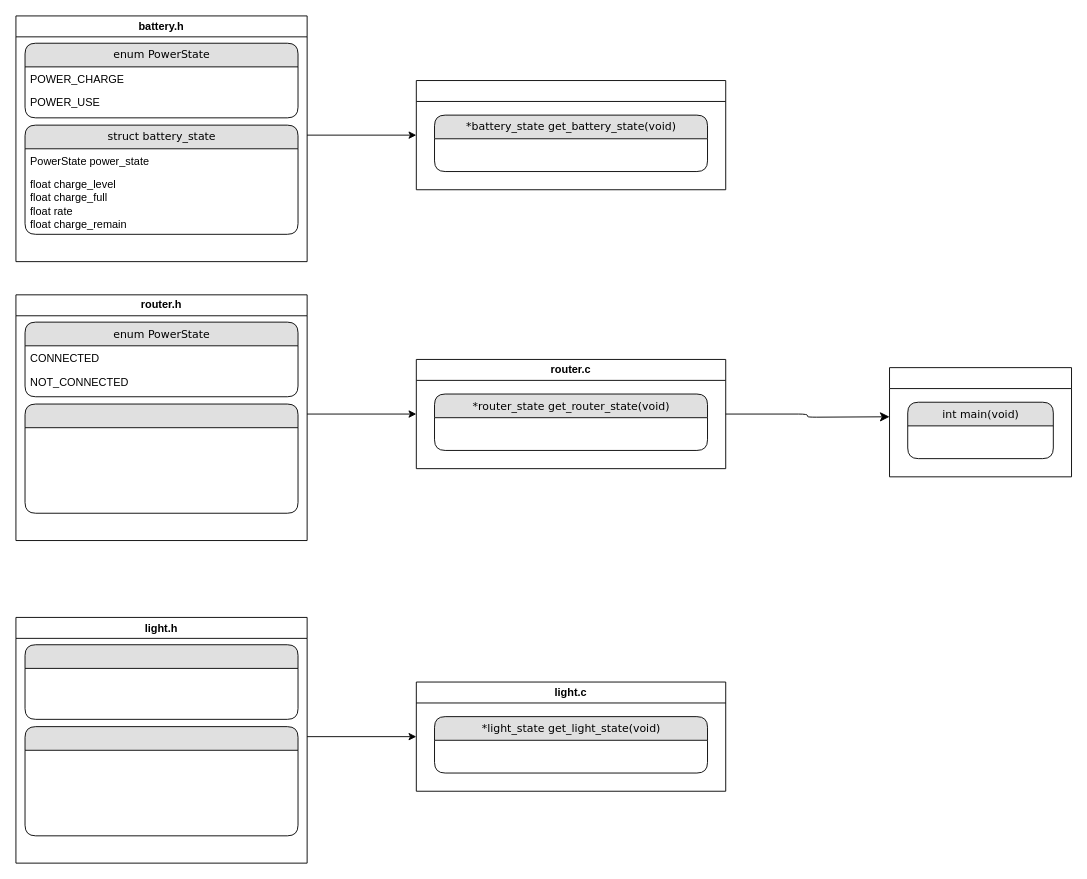
The diagram is 1087 pixels wide and 879 high, and some of its shapes have lost their labels. Each missing label, with the centre of its shape:
battery.c: [570,135]
enum LightPower: [161,681]
main.c: [980,422]
struct light_state: [161,781]
struct router_state: [161,458]
